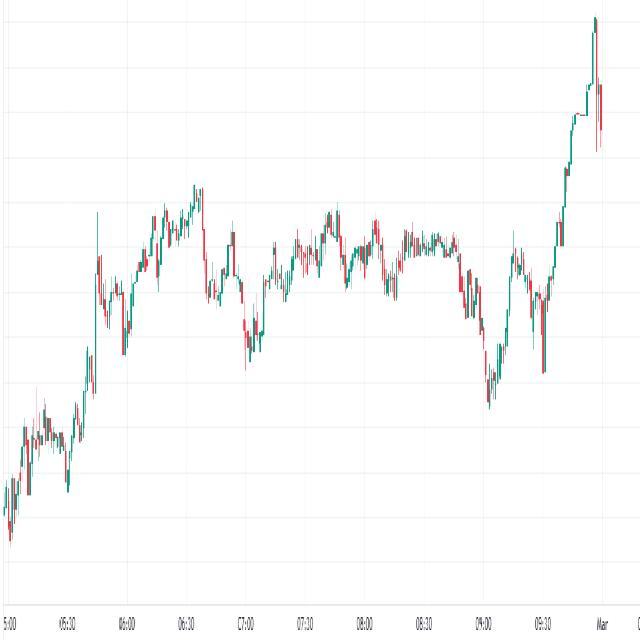Channel-up: (57, 309, 100, 530)
Double-Bottom: (237, 291, 270, 364)
